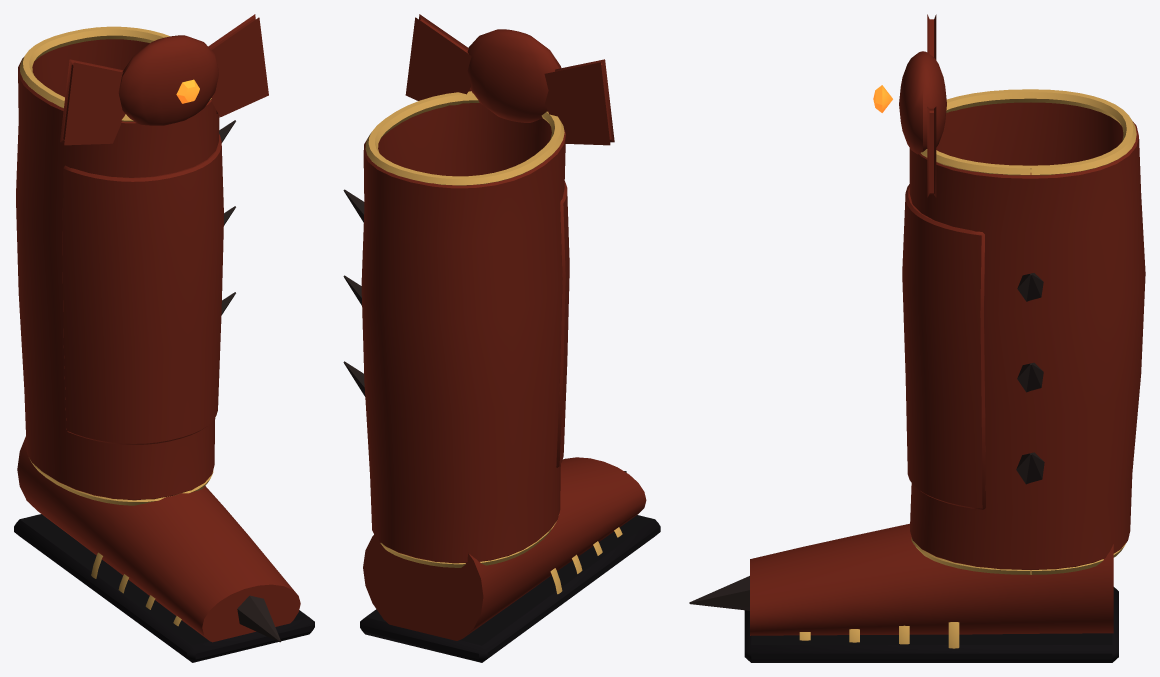
File: boss_dragonforge_boots_1.glb
3 views of the same model, side by side, from view 1: azimuth 30°, elevation 25°; view 2: azimuth 150°, elevation 25°; view 3: azimuth 270°, elevation 25° (orthographic). The views are drawn at different scales.
Visible parts, largest first — view 1: boss_dragonforge_boots_1, AT_foot_L; view 2: boss_dragonforge_boots_1, AT_foot_L; view 3: boss_dragonforge_boots_1, AT_foot_L.
Part boxes in pixels (x1,y1,x2,y2): boss_dragonforge_boots_1: (16,14,268,505); AT_foot_L: (14,436,314,662); boss_dragonforge_boots_1: (343,14,614,567); AT_foot_L: (360,457,660,662); boss_dragonforge_boots_1: (873,14,1145,574); AT_foot_L: (689,523,1118,662).
Size of the model in its own units: 0.2427 by 0.5768 by 0.4142.
